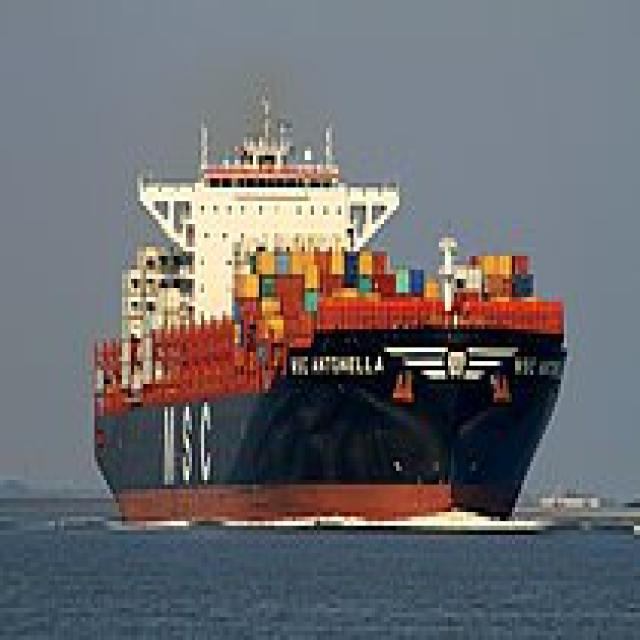Cargo: (88, 82, 567, 526)
